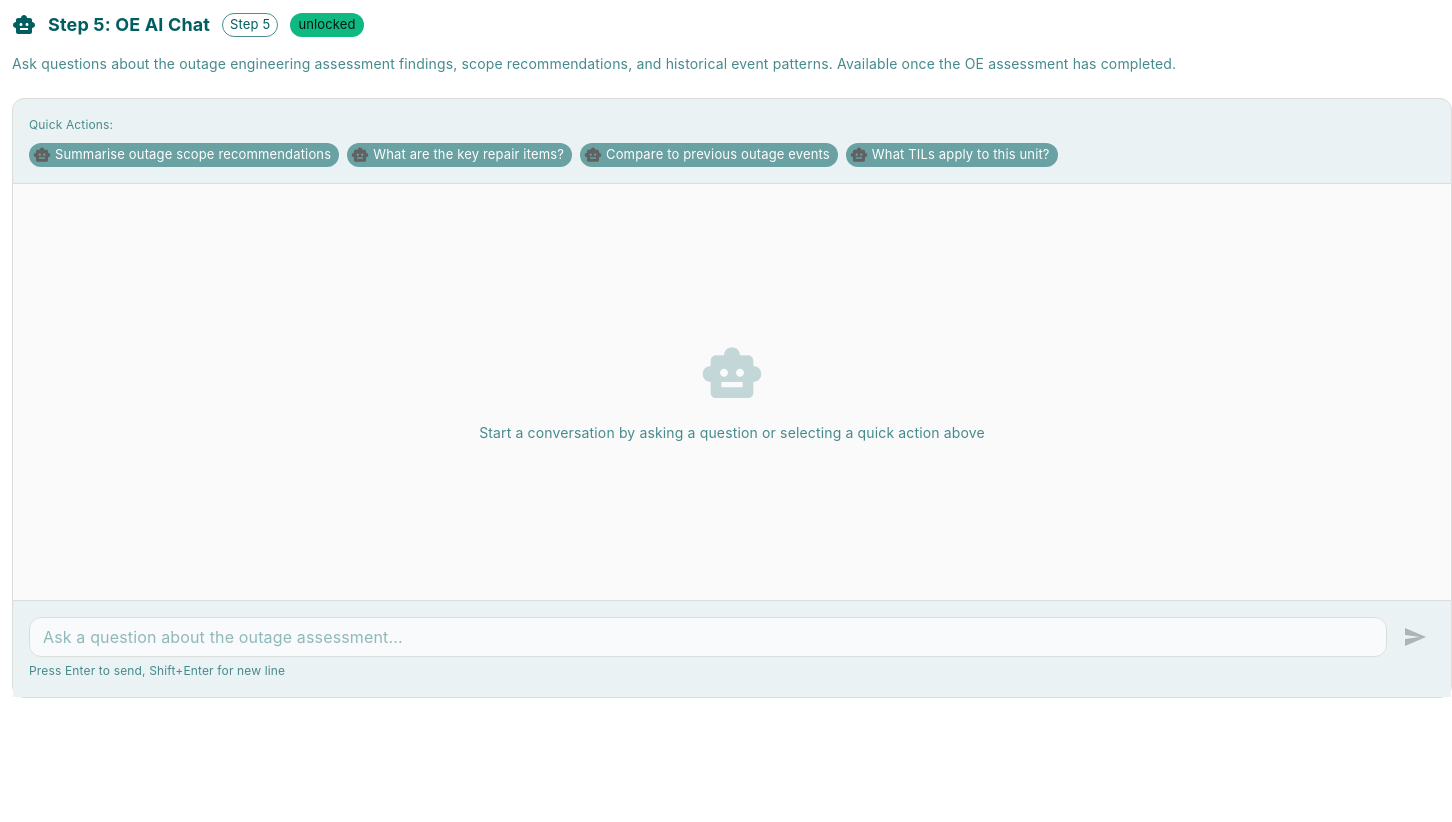
Test case: OutageChatPanel › renders user text plainly and assistant replies with formatted markdown
Type "Need outage summary" into the text box with placeholder "Ask a question about the outage assessment...".
click(708, 637); type("Need outage summary")  # box [43,626,1373,649]
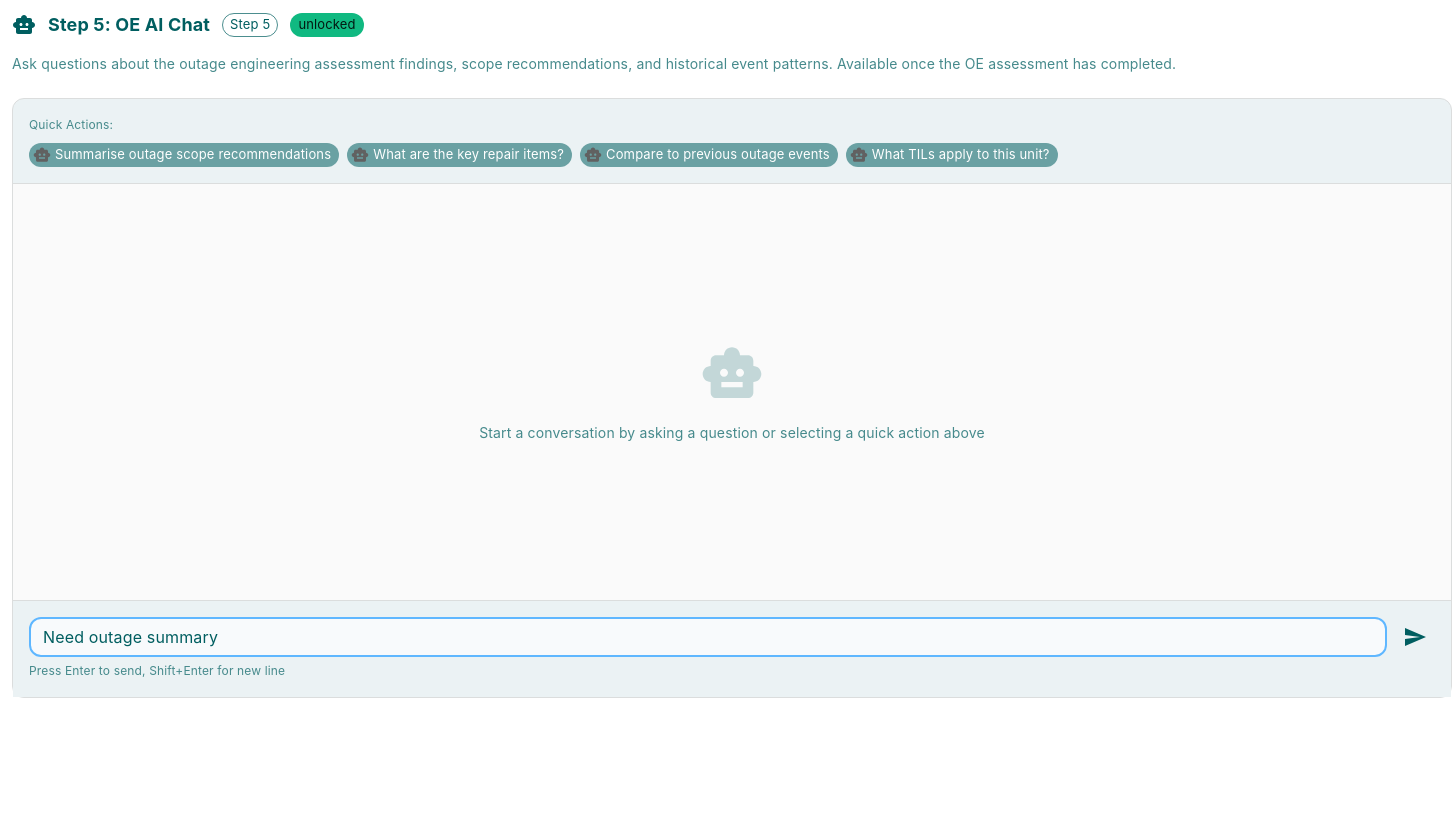
Click the button with test id "SendIcon".
click(1415, 637)  # box [1395,617,1435,657]
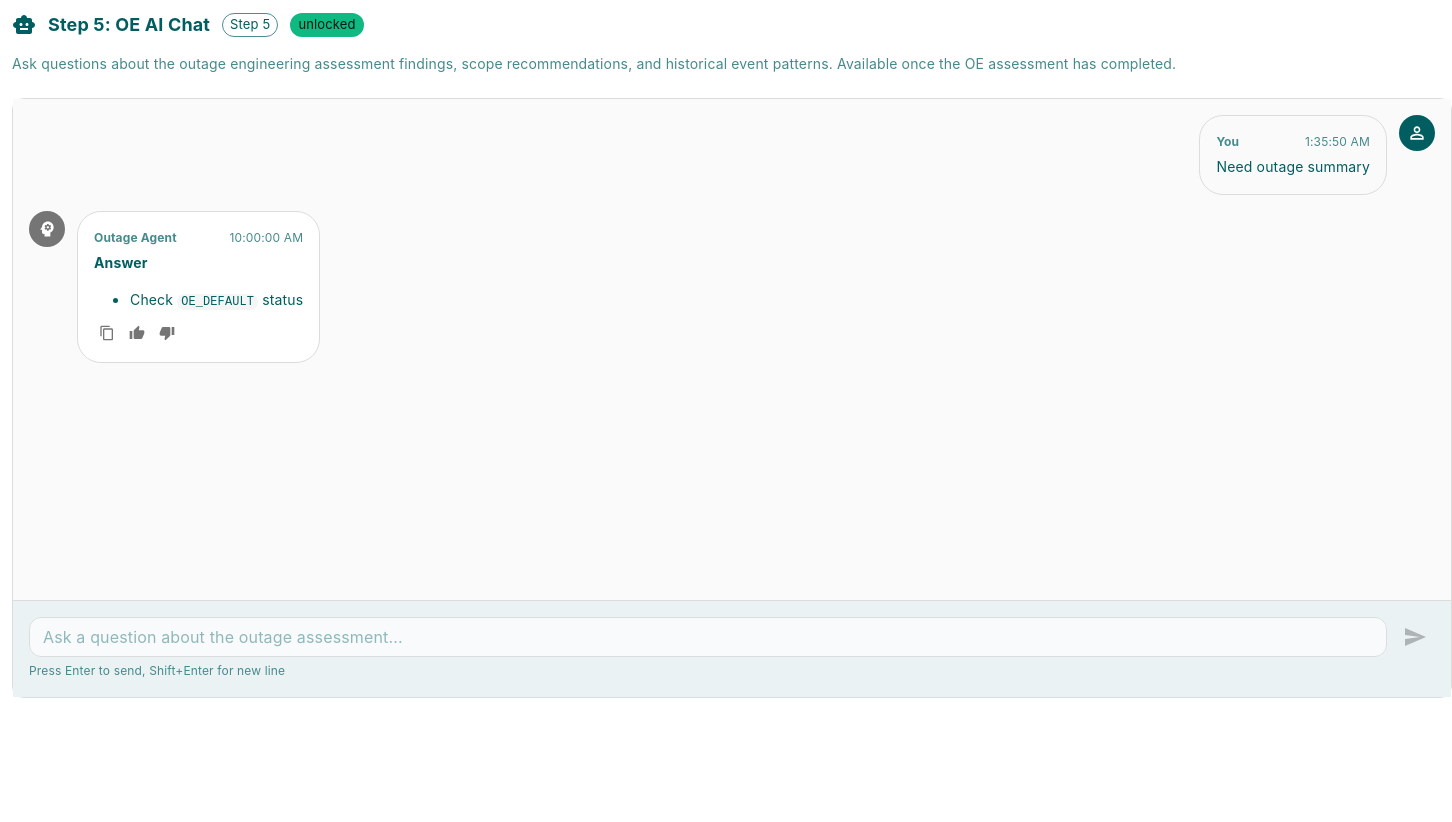
Expected: the text "Need outage summary" is shown, [1216,156,1370,178]
Expected: the text "Answer" is shown, [94,254,148,271]
Expected: the list is shown, [114,287,303,312]
